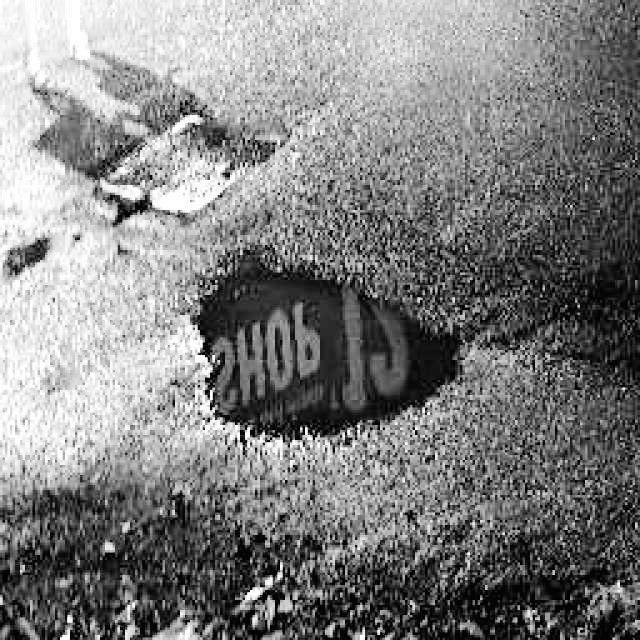Pothole: (174, 232, 480, 453), (84, 99, 297, 232)
